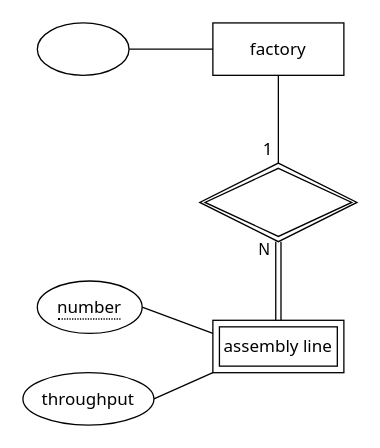
Some shapes in this 380 by 448 pixel diagram are drawn without their labels. The shapes that lost their labels are listed below. From the top down, each one's box as (x1, y1, x2, y2) in pixels, then its label:
(36, 22, 129, 75): city
(198, 162, 357, 242): contains
